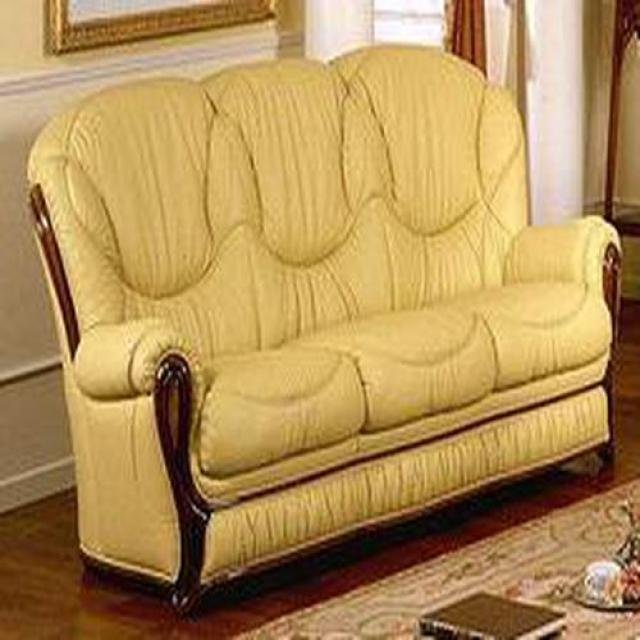sofa: (26, 45, 623, 618)
